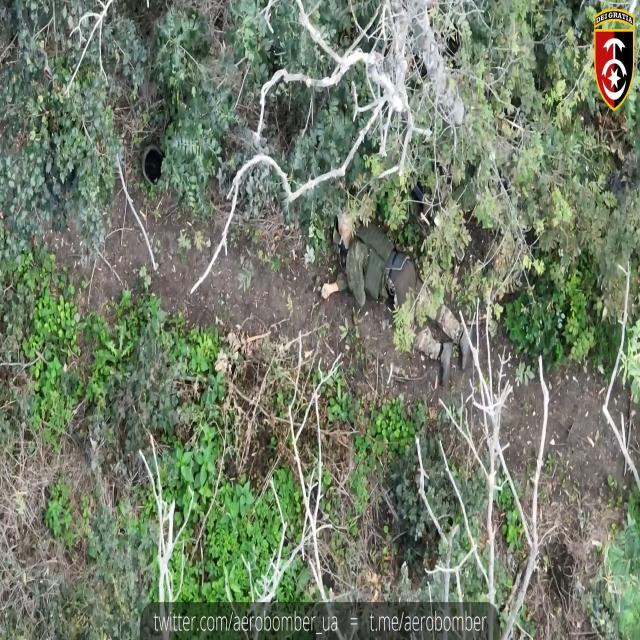MIL_Pax: (346, 222, 462, 348), (356, 222, 394, 262)
